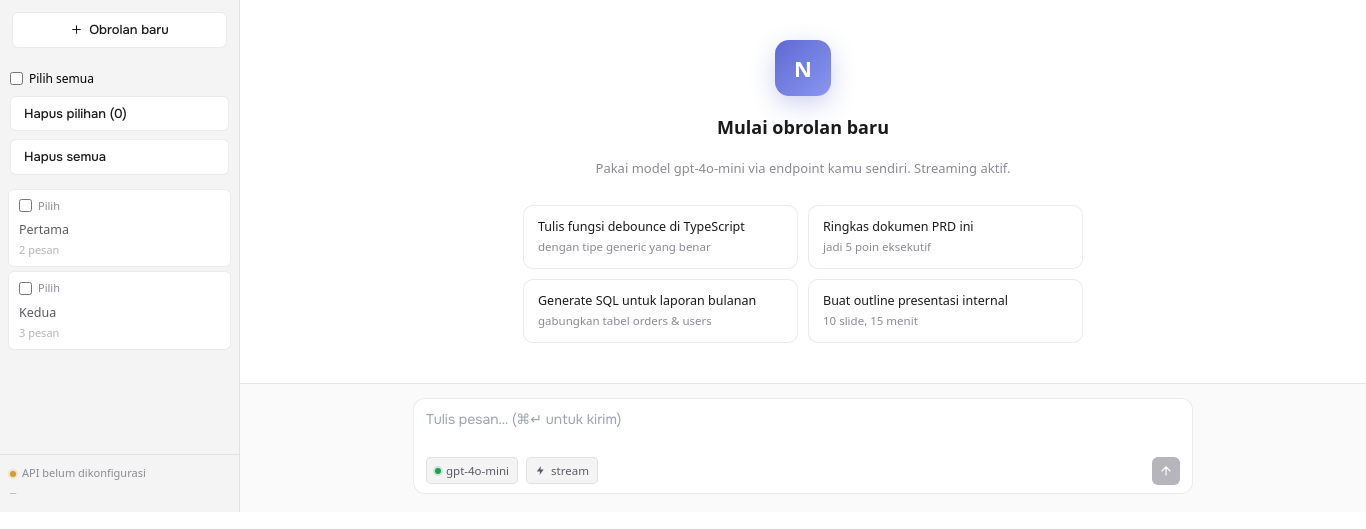
keeps failed deletions visible and reports the error
What coordinates should you click on to do the following:
click the button "Hapus semua"
I would click on:
 (120, 157)
Its box is [10, 139, 229, 174].
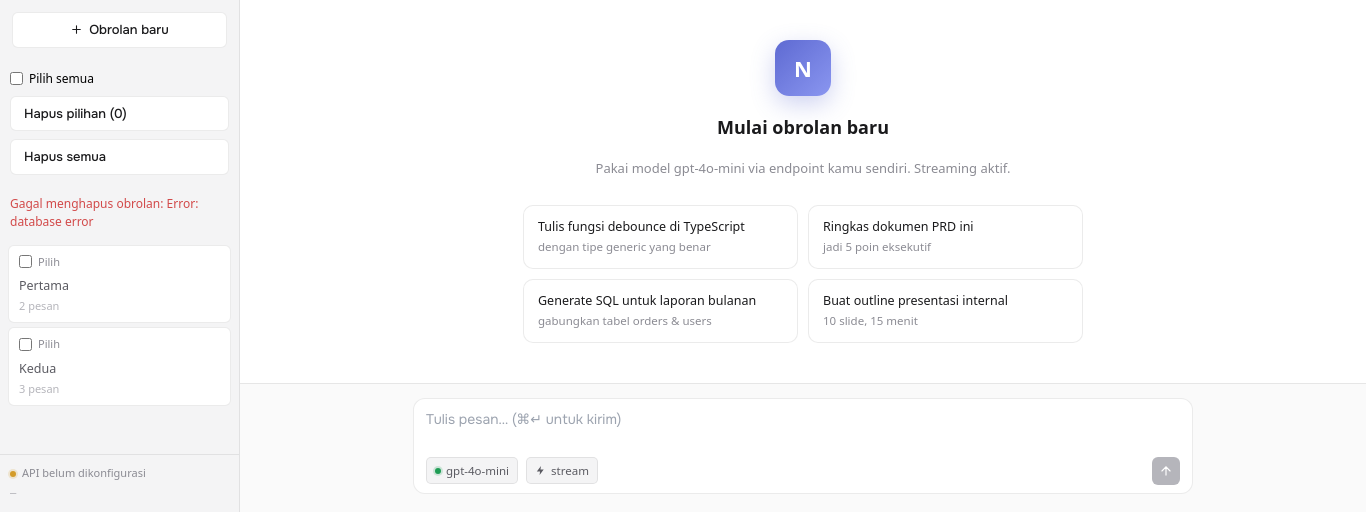
Expected: the text "Pertama" is shown, [19, 277, 69, 294]
Now the message "Gagal menghapus obrolan: Error: database error" is shown, box [10, 194, 198, 230]
